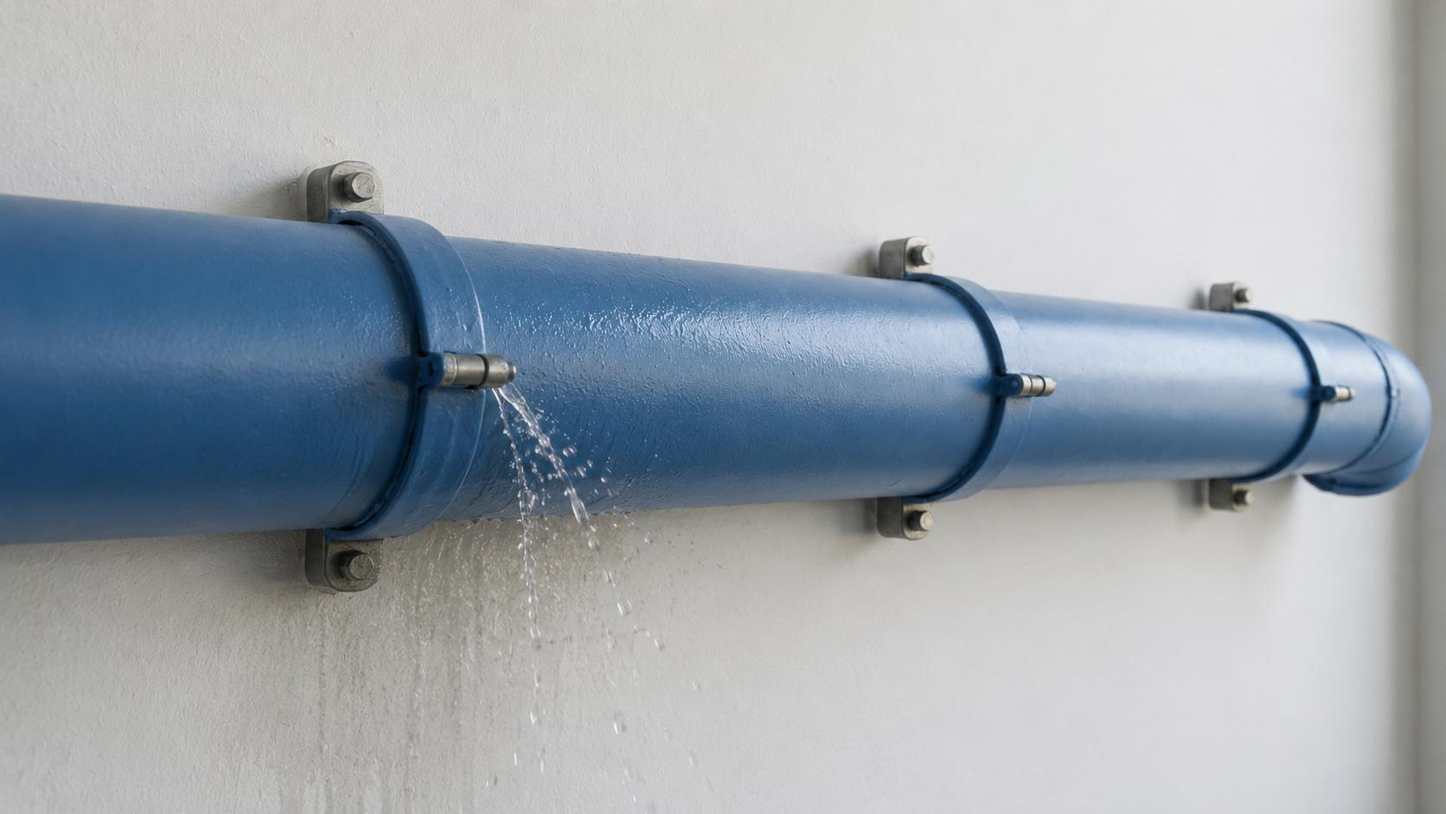pipe burst: (482, 364, 687, 791)
